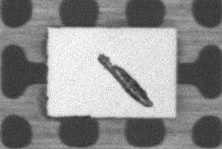DIE_INK: (94, 53, 153, 107)
